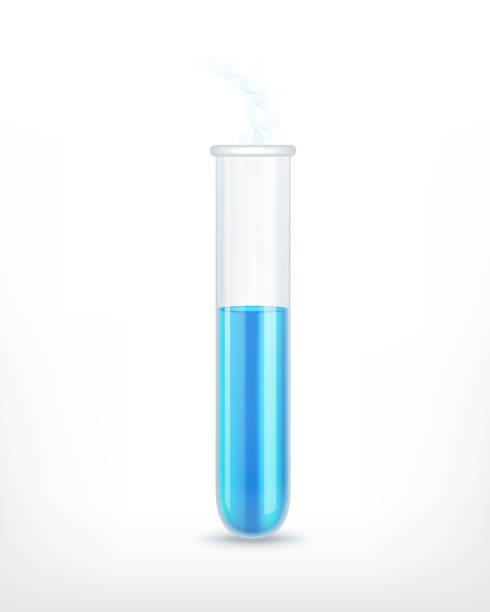Test tube: (194, 102, 307, 548)
